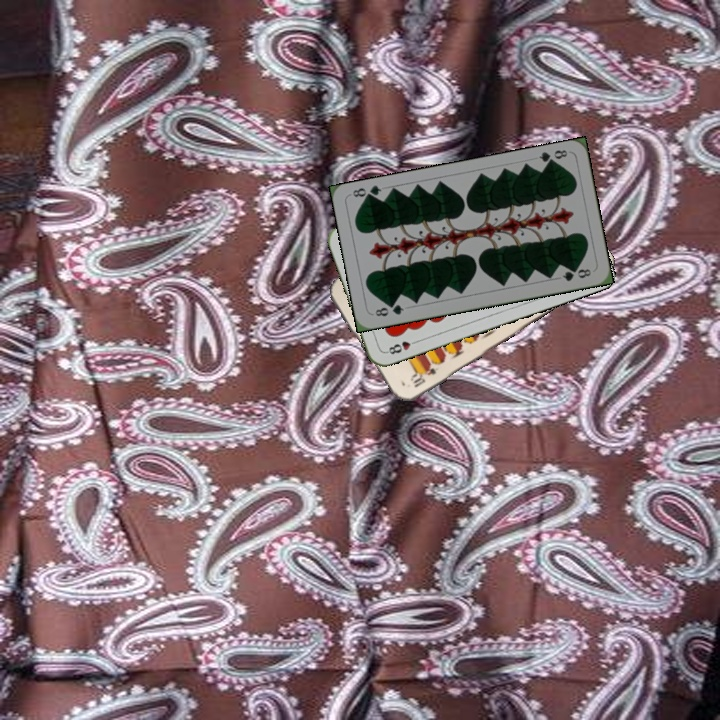E10: (406, 362, 439, 390)
G8: (535, 146, 570, 168), (371, 300, 406, 319)
H8: (382, 336, 421, 357)
